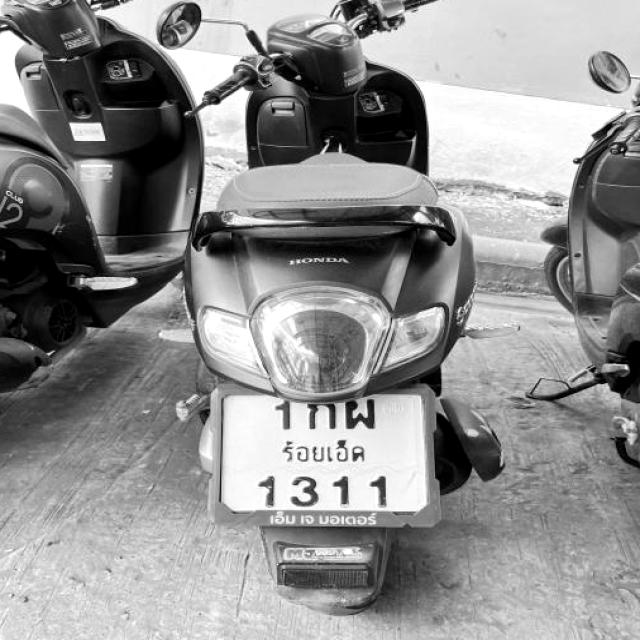letters: (303, 396, 342, 431), (288, 473, 318, 511), (268, 393, 295, 434), (345, 398, 378, 430), (256, 473, 282, 512), (368, 477, 393, 507), (335, 480, 353, 512)
license-plate: (224, 397, 422, 513)
province: (274, 441, 377, 474)
